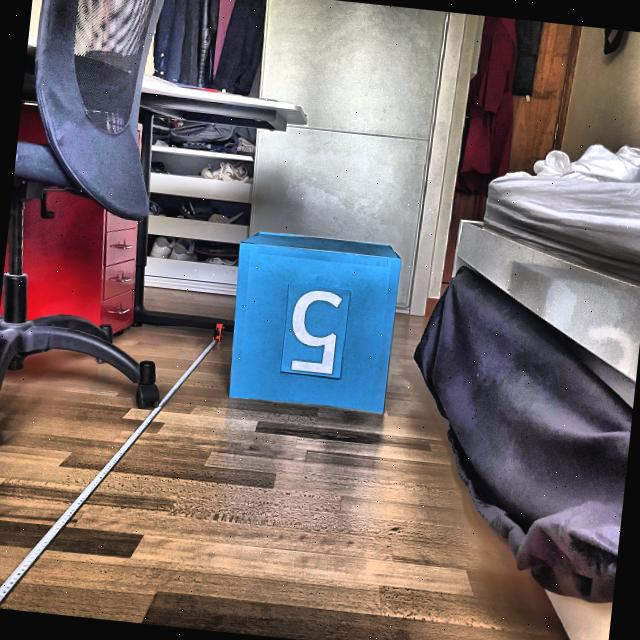blue box: (221, 225, 407, 415)
five: (284, 286, 345, 376)
